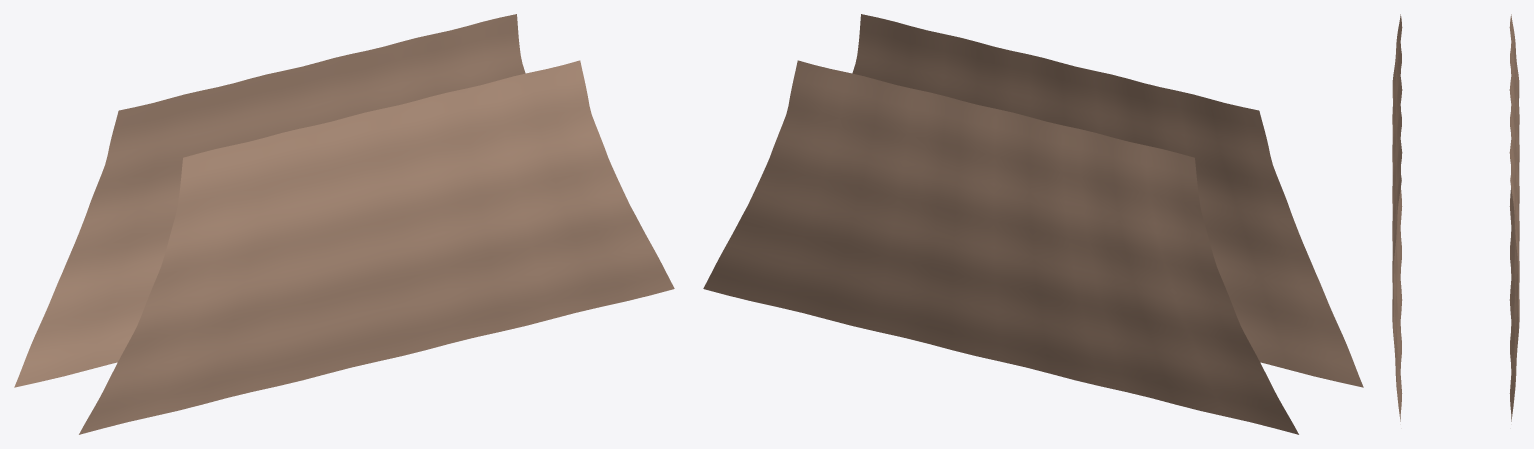
Rendered from clean.glb.
The picture shows the model from 3 angles, left to right: view 1: azimuth 30°, elevation 25°; view 2: azimuth 150°, elevation 25°; view 3: azimuth 270°, elevation 25°; orthographic projection. The views are drawn at different scales.
Visible parts, largest first — view 1: clean:manual-skirt-03.front, clean:manual-skirt-03.back; view 2: clean:manual-skirt-03.back, clean:manual-skirt-03.front; view 3: clean:manual-skirt-03.front, clean:manual-skirt-03.back.
Boxes of the visible parts, left/top/right/bottom form: clean:manual-skirt-03.front: left=79, top=60, right=674, bottom=434; clean:manual-skirt-03.back: left=14, top=14, right=525, bottom=387; clean:manual-skirt-03.back: left=703, top=60, right=1298, bottom=434; clean:manual-skirt-03.front: left=852, top=14, right=1363, bottom=387; clean:manual-skirt-03.front: left=1392, top=14, right=1402, bottom=421; clean:manual-skirt-03.back: left=1509, top=14, right=1519, bottom=421.
Size of the model in its own units: 1.34 by 0.54 by 0.2898.
